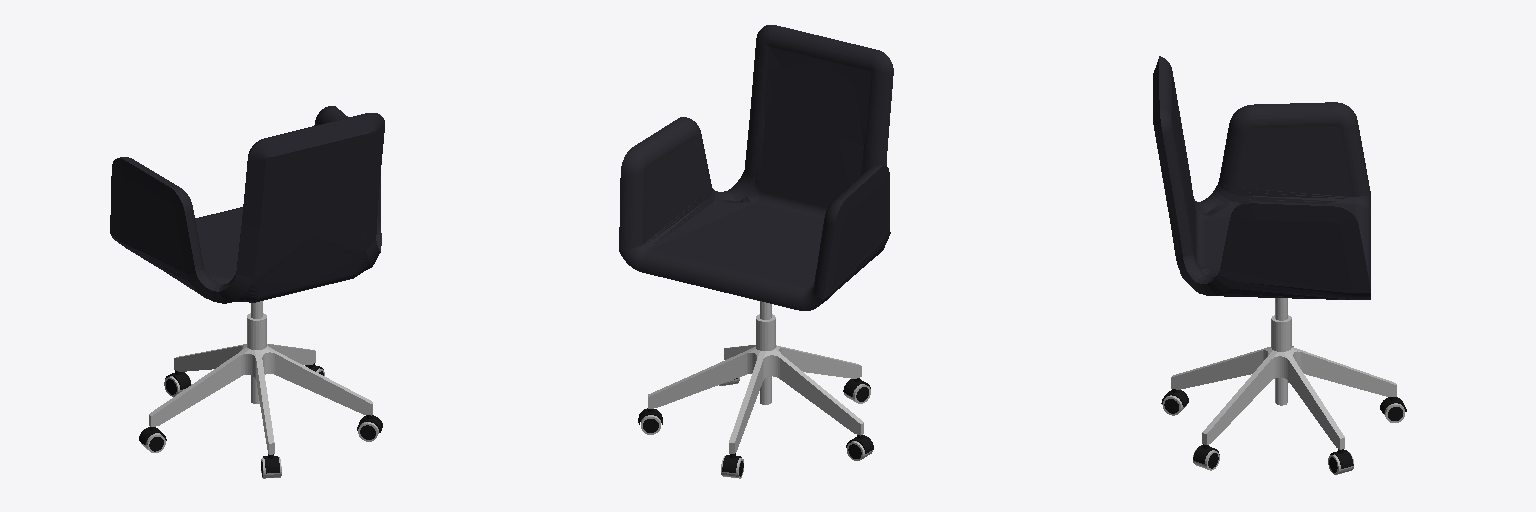
3 views of the same model, side by side, from view 1: azimuth 30°, elevation 25°; view 2: azimuth 150°, elevation 25°; view 3: azimuth 270°, elevation 25° (orthographic).
Visible parts, largest first — view 1: Mesh22 Group19 Patrik_kontorsstol1 Model, Mesh17 Patrik_ben4 Group3 Group1 Patrik_kontorsstol1 Model, Mesh13 Patrik_ben3 Group3 Group1 Patrik_kontorsstol1 Model, Mesh9 Patrik_ben2 Group3 Group1 Patrik_kontorsstol1 Model, Mesh1 Group2 Group1 Patrik_kontorsstol1 Model, Mesh5 Patrik_ben1 Group3 Group1 Patrik_kontorsstol1 Model, Mesh21 Patrik_ben5 Group3 Group1 Patrik_kontorsstol1 Model; view 2: Mesh22 Group19 Patrik_kontorsstol1 Model, Mesh13 Patrik_ben3 Group3 Group1 Patrik_kontorsstol1 Model, Mesh21 Patrik_ben5 Group3 Group1 Patrik_kontorsstol1 Model, Mesh5 Patrik_ben1 Group3 Group1 Patrik_kontorsstol1 Model, Mesh9 Patrik_ben2 Group3 Group1 Patrik_kontorsstol1 Model, Mesh1 Group2 Group1 Patrik_kontorsstol1 Model; view 3: Mesh22 Group19 Patrik_kontorsstol1 Model, Mesh5 Patrik_ben1 Group3 Group1 Patrik_kontorsstol1 Model, Mesh21 Patrik_ben5 Group3 Group1 Patrik_kontorsstol1 Model, Mesh17 Patrik_ben4 Group3 Group1 Patrik_kontorsstol1 Model, Mesh9 Patrik_ben2 Group3 Group1 Patrik_kontorsstol1 Model, Mesh1 Group2 Group1 Patrik_kontorsstol1 Model.
Part boxes in pixels (x1,y1,x2,y2): Mesh22 Group19 Patrik_kontorsstol1 Model: (110,106,384,303); Mesh17 Patrik_ben4 Group3 Group1 Patrik_kontorsstol1 Model: (261,346,372,415); Mesh13 Patrik_ben3 Group3 Group1 Patrik_kontorsstol1 Model: (149,345,248,426); Mesh9 Patrik_ben2 Group3 Group1 Patrik_kontorsstol1 Model: (239,349,274,454); Mesh1 Group2 Group1 Patrik_kontorsstol1 Model: (247,301,266,403); Mesh5 Patrik_ben1 Group3 Group1 Patrik_kontorsstol1 Model: (174,344,246,371); Mesh21 Patrik_ben5 Group3 Group1 Patrik_kontorsstol1 Model: (267,344,315,364); Mesh22 Group19 Patrik_kontorsstol1 Model: (619,25,893,310); Mesh13 Patrik_ben3 Group3 Group1 Patrik_kontorsstol1 Model: (763,349,863,435); Mesh21 Patrik_ben5 Group3 Group1 Patrik_kontorsstol1 Model: (648,346,755,408); Mesh5 Patrik_ben1 Group3 Group1 Patrik_kontorsstol1 Model: (729,349,765,453); Mesh9 Patrik_ben2 Group3 Group1 Patrik_kontorsstol1 Model: (775,345,861,378); Mesh1 Group2 Group1 Patrik_kontorsstol1 Model: (756,301,775,404); Mesh22 Group19 Patrik_kontorsstol1 Model: (1153,56,1370,299); Mesh5 Patrik_ben1 Group3 Group1 Patrik_kontorsstol1 Model: (1289,347,1396,396); Mesh21 Patrik_ben5 Group3 Group1 Patrik_kontorsstol1 Model: (1270,351,1344,449); Mesh17 Patrik_ben4 Group3 Group1 Patrik_kontorsstol1 Model: (1202,348,1276,444); Mesh9 Patrik_ben2 Group3 Group1 Patrik_kontorsstol1 Model: (1171,347,1270,389); Mesh1 Group2 Group1 Patrik_kontorsstol1 Model: (1271,298,1291,405).
Bounding box in the file's own units: 0.5619 × 0.8585 × 0.5681.